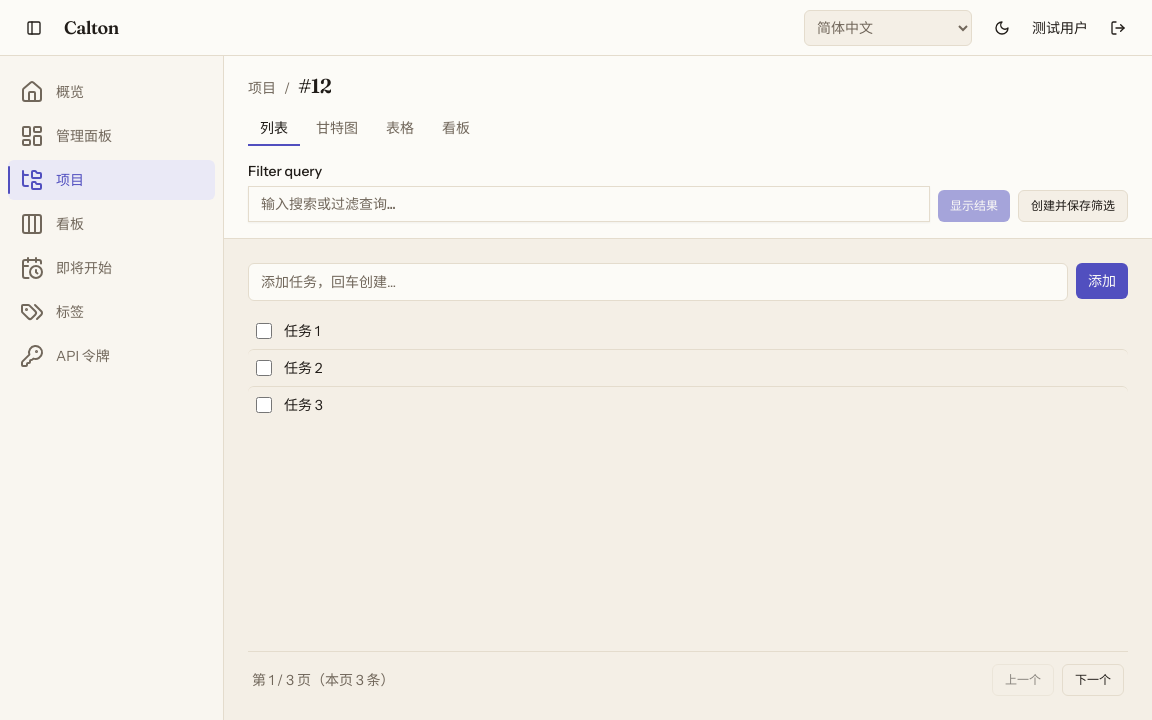
Scenario: List 视图：分页 › ★ 翻页拿到下一页数据，页码进 URL
This screenshot has width=1152, height=720.
expect the link "任务 1" is shown: met, box [284,322,320,340]
expect the text with test id "pagination-status" shows "第 1 / 3 页": met, box [252,670,395,690]
Step 1. Click the button with test id "pagination-next" → (1093, 680), box [1062,664,1124,696]
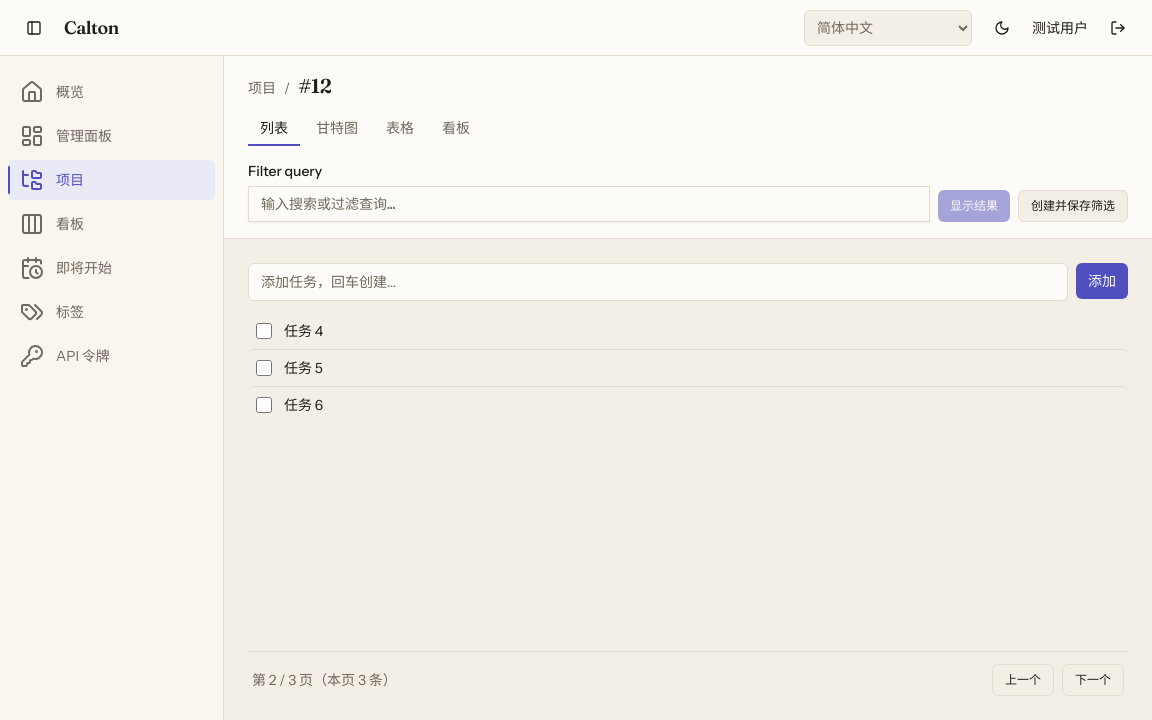
expect the link "任务 4" is shown: met, box [284,322,323,340]
expect the link "任务 1" is gone: met
